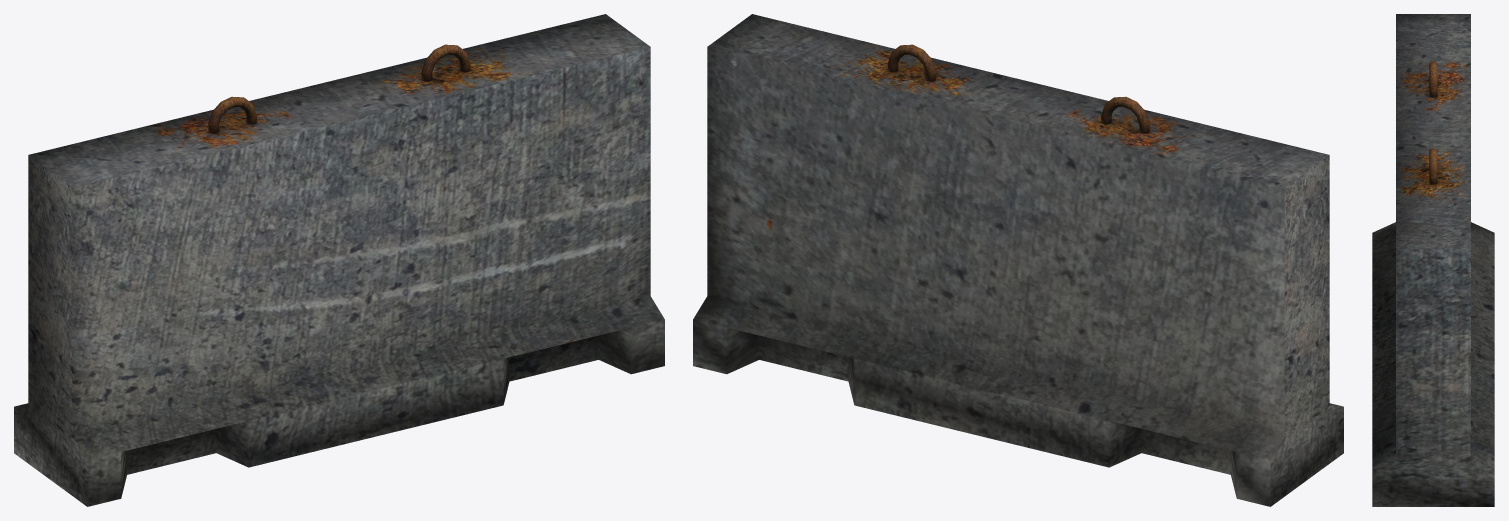
The model's file is ConcreteBarrier.fbx.
3 views of the same model, side by side, from view 1: azimuth 30°, elevation 25°; view 2: azimuth 150°, elevation 25°; view 3: azimuth 270°, elevation 25° (orthographic). The views are drawn at different scales.
Visible parts, largest first — view 1: Cube; view 2: Cube; view 3: Cube.
Boxes of the visible parts, bbox=[...] form: Cube: bbox=[14, 14, 664, 506]; Cube: bbox=[693, 14, 1343, 506]; Cube: bbox=[1372, 14, 1494, 506].
Size of the model in its own units: 2.71 by 1.52 by 0.595.
